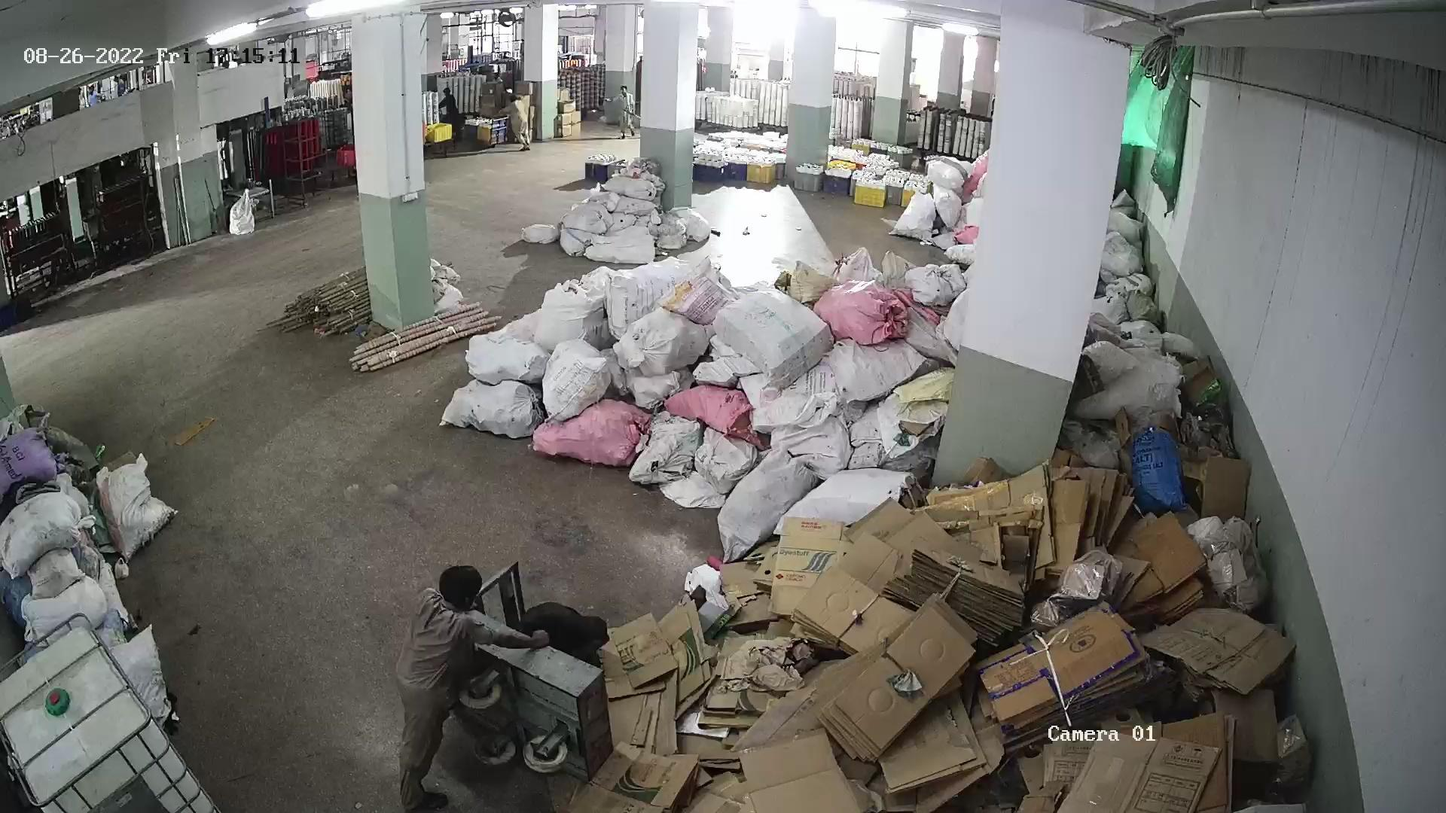person: (396, 559, 488, 813), (502, 97, 535, 154), (439, 88, 462, 139), (616, 85, 635, 138)
